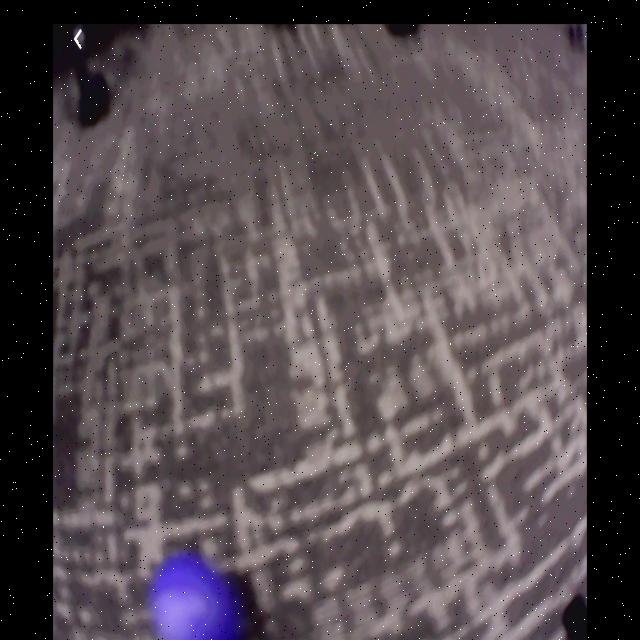ball: (153, 557, 238, 640)
